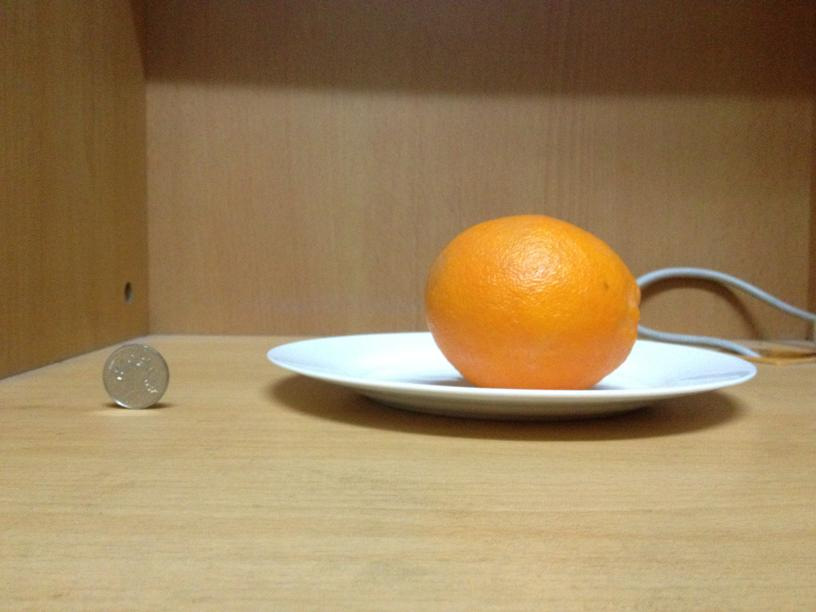coin: (102, 343, 168, 410)
orange: (419, 213, 640, 388)
